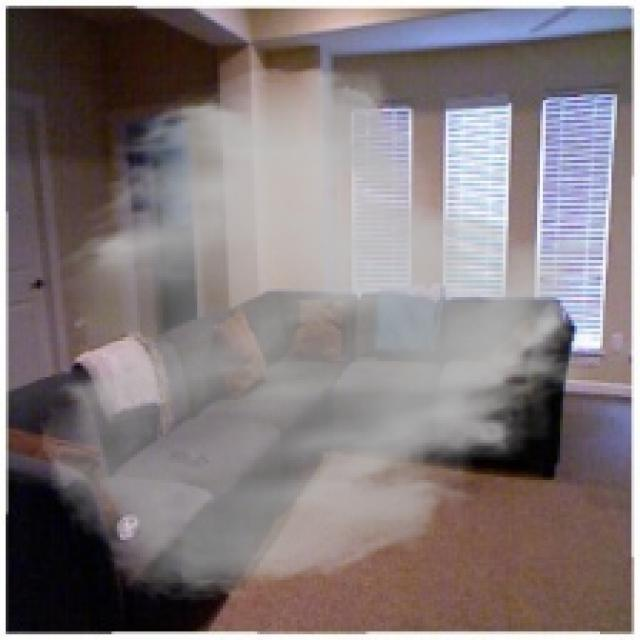Smoke: (37, 60, 603, 606)
